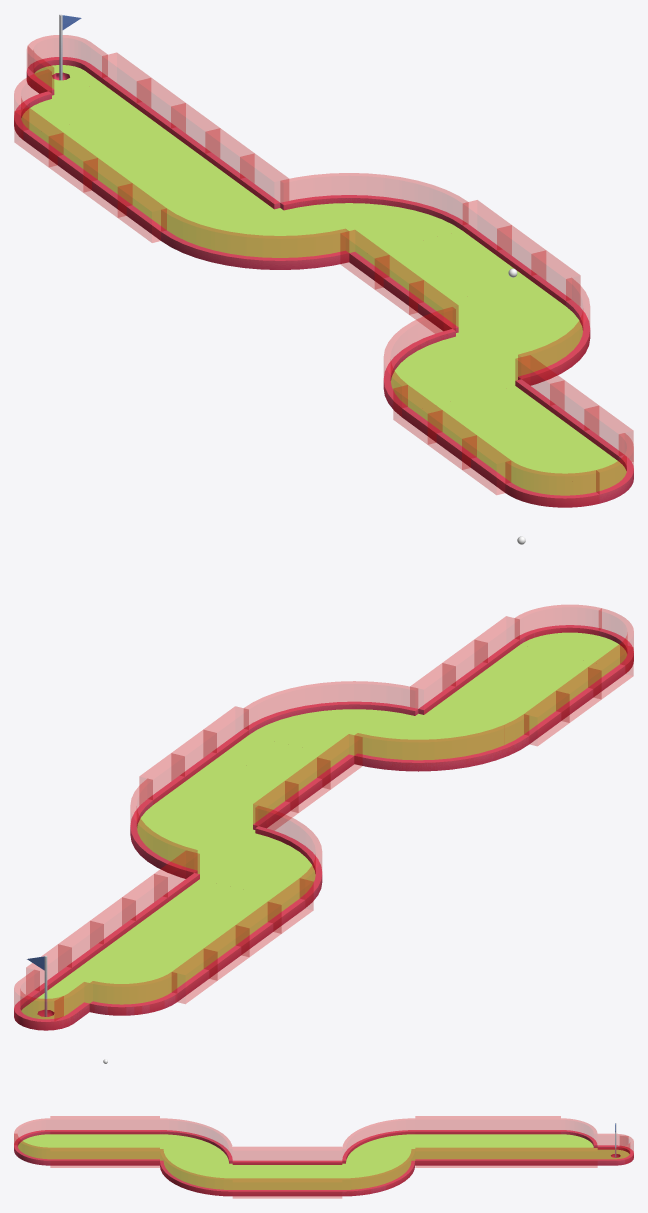
File: common.glb
3 views of the same model, one above another, from view 1: azimuth 30°, elevation 25°; view 2: azimuth 150°, elevation 25°; view 3: azimuth 270°, elevation 25° (orthographic). The views are drawn at different scales.
Visible parts, largest first — view 1: round-large-corner-open.003#col, round-large-corner-open.002#col, round-large-corner-open.002#col.001, round-large-corner-open.003#col.001, wall#col#inv.019, wall#col#inv.014, wall#col#inv.031, wall#col#inv.036, wall#col#inv.035, wall#col#inv.034, side.007#col, side.003#col.001 (+46 smaller); view 2: round-large-corner-open.003#col.001, round-large-corner-open.002#col.001, round-large-corner-open.002#col, round-large-corner-open.003#col, wall#col#inv.035, wall#col#inv.036, wall#col#inv.034, wall#col#inv.014, wall#col#inv.016, wall#col#inv.030, wall#col#inv.019, hole-round.002#col (+46 smaller); view 3: round-large-corner-open.002#col, round-large-corner-open.003#col, round-large-corner-open.002#col.001, round-large-corner-open.003#col.001, wall#col#inv.036, wall#col#inv.014, wall#col#inv.019, wall#col#inv.035, wall#col#inv.034, wall#col#inv.027, wall#col#inv.026, wall#col#inv.028 (+46 smaller).
Part boxes in pixels (x1=…): round-large-corner-open.003#col: x1=280, y1=195, x2=467, y2=255; round-large-corner-open.002#col: x1=161, y1=208, x2=349, y2=269; round-large-corner-open.002#col.001: x1=383, y1=329, x2=515, y2=416; round-large-corner-open.003#col.001: x1=456, y1=299, x2=590, y2=385; wall#col#inv.019: x1=280, y1=173, x2=467, y2=224; wall#col#inv.014: x1=161, y1=208, x2=348, y2=260; wall#col#inv.031: x1=505, y1=461, x2=599, y2=506; wall#col#inv.036: x1=518, y1=278, x2=589, y2=376; wall#col#inv.035: x1=384, y1=307, x2=455, y2=406; wall#col#inv.034: x1=27, y1=35, x2=107, y2=89; side.007#col: x1=186, y1=177, x2=280, y2=222; side.003#col.001: x1=462, y1=379, x2=555, y2=423; round-large-corner-open.003#col.001: x1=244, y1=701, x2=418, y2=757; round-large-corner-open.002#col.001: x1=354, y1=713, x2=529, y2=771; round-large-corner-open.002#col: x1=199, y1=826, x2=322, y2=907; round-large-corner-open.003#col: x1=130, y1=799, x2=255, y2=878; wall#col#inv.035: x1=355, y1=714, x2=528, y2=768; wall#col#inv.036: x1=244, y1=681, x2=417, y2=728; wall#col#inv.034: x1=14, y1=970, x2=89, y2=1029; wall#col#inv.014: x1=255, y1=806, x2=321, y2=897; wall#col#inv.016: x1=90, y1=972, x2=176, y2=1014; wall#col#inv.030: x1=515, y1=605, x2=601, y2=640; wall#col#inv.019: x1=130, y1=779, x2=197, y2=870; hole-round.002#col: x1=14, y1=990, x2=89, y2=1030; round-large-corner-open.002#col: x1=342, y1=1130, x2=415, y2=1163; round-large-corner-open.003#col: x1=342, y1=1160, x2=415, y2=1196; round-large-corner-open.002#col.001: x1=160, y1=1130, x2=232, y2=1163; round-large-corner-open.003#col.001: x1=160, y1=1160, x2=232, y2=1196; wall#col#inv.036: x1=160, y1=1149, x2=232, y2=1195; wall#col#inv.014: x1=342, y1=1118, x2=414, y2=1162; wall#col#inv.019: x1=342, y1=1149, x2=414, y2=1195; wall#col#inv.035: x1=160, y1=1118, x2=232, y2=1159; wall#col#inv.034: x1=598, y1=1134, x2=633, y2=1163; wall#col#inv.027: x1=269, y1=1178, x2=305, y2=1198; wall#col#inv.026: x1=306, y1=1178, x2=341, y2=1198; wall#col#inv.028: x1=233, y1=1178, x2=268, y2=1198.
Size of the model in its own units: 4.3 by 2.81 by 17.
7 materials, 6 textured.
